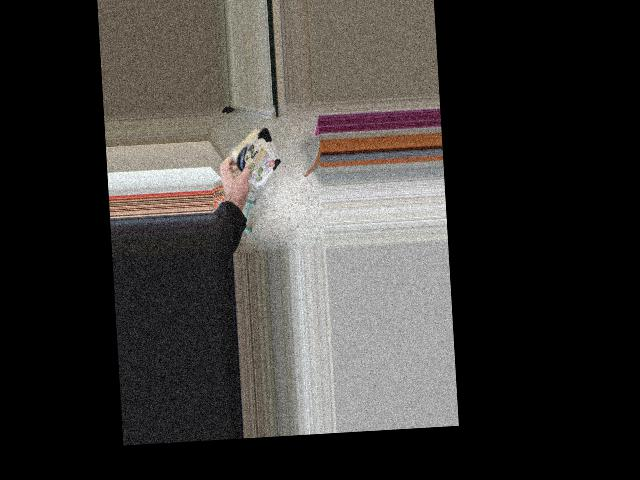cheese: (212, 126, 289, 185)
